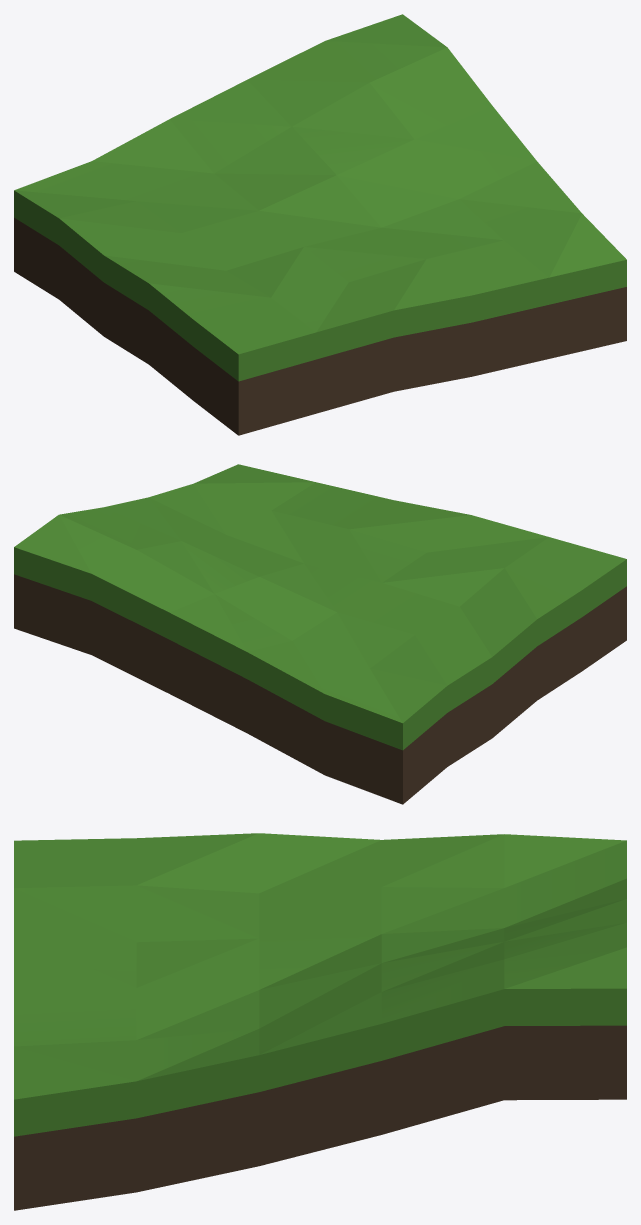
Rendered from terrains_terrain-world-hill1.fbx.
The picture shows the model from 3 angles, top to bottom: view 1: azimuth 30°, elevation 25°; view 2: azimuth 150°, elevation 25°; view 3: azimuth 270°, elevation 25°; orthographic projection. The views are drawn at different scales.
Visible parts, largest first — view 1: terrains_terrain_world_hill1; view 2: terrains_terrain_world_hill1; view 3: terrains_terrain_world_hill1.
Boxes of the visible parts, x1,y1,x2,y2 form: terrains_terrain_world_hill1: [14, 14, 626, 435]; terrains_terrain_world_hill1: [14, 464, 626, 804]; terrains_terrain_world_hill1: [14, 833, 626, 1210].
Bounding box in the file's own units: 200 × 79.95 × 200.
